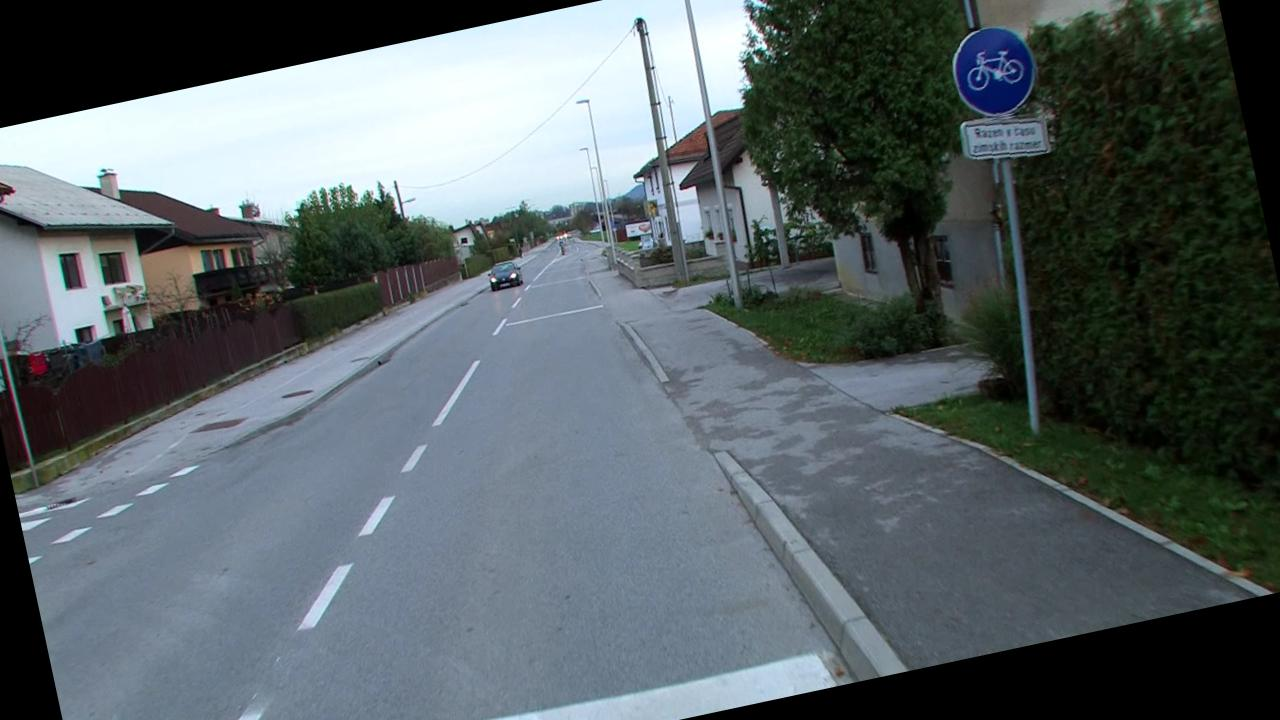Rectangle: (958, 107, 1052, 170)
Round: (946, 20, 1046, 125)
